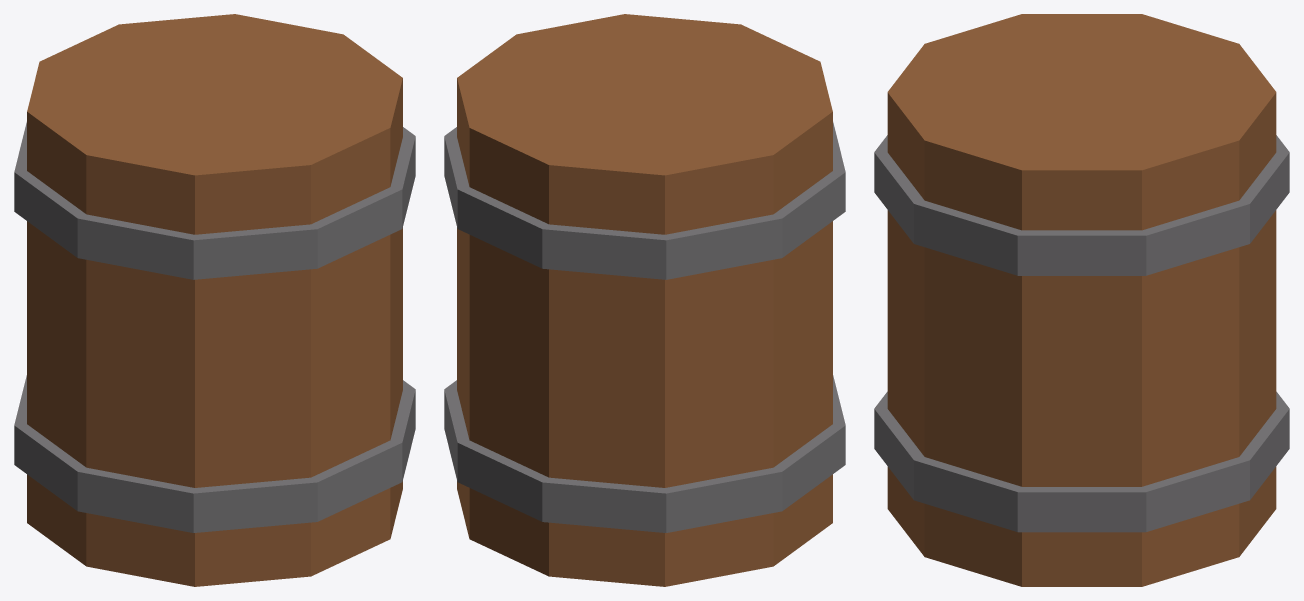
Rendered from Barrel.fbx.
3 renders of one model, left to right at view 1: azimuth 30°, elevation 25°; view 2: azimuth 150°, elevation 25°; view 3: azimuth 270°, elevation 25°, orthographic.
Visible parts, largest first — view 1: Barrel; view 2: Barrel; view 3: Barrel.
Boxes of the visible parts, x1,y1,x2,y2 form: Barrel: (14,14,415,586); Barrel: (444,14,845,586); Barrel: (874,14,1289,586).
Bounding box in the file's own units: 2.23 × 2.6 × 2.35.
Materials: 1 (1 with a texture image).
